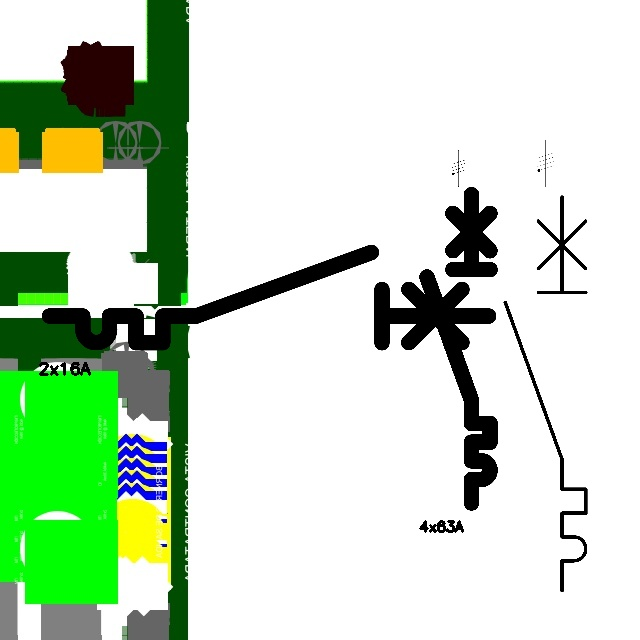interruptor_termomagnetico: (38, 241, 499, 354), (495, 186, 596, 600), (419, 186, 498, 510)
